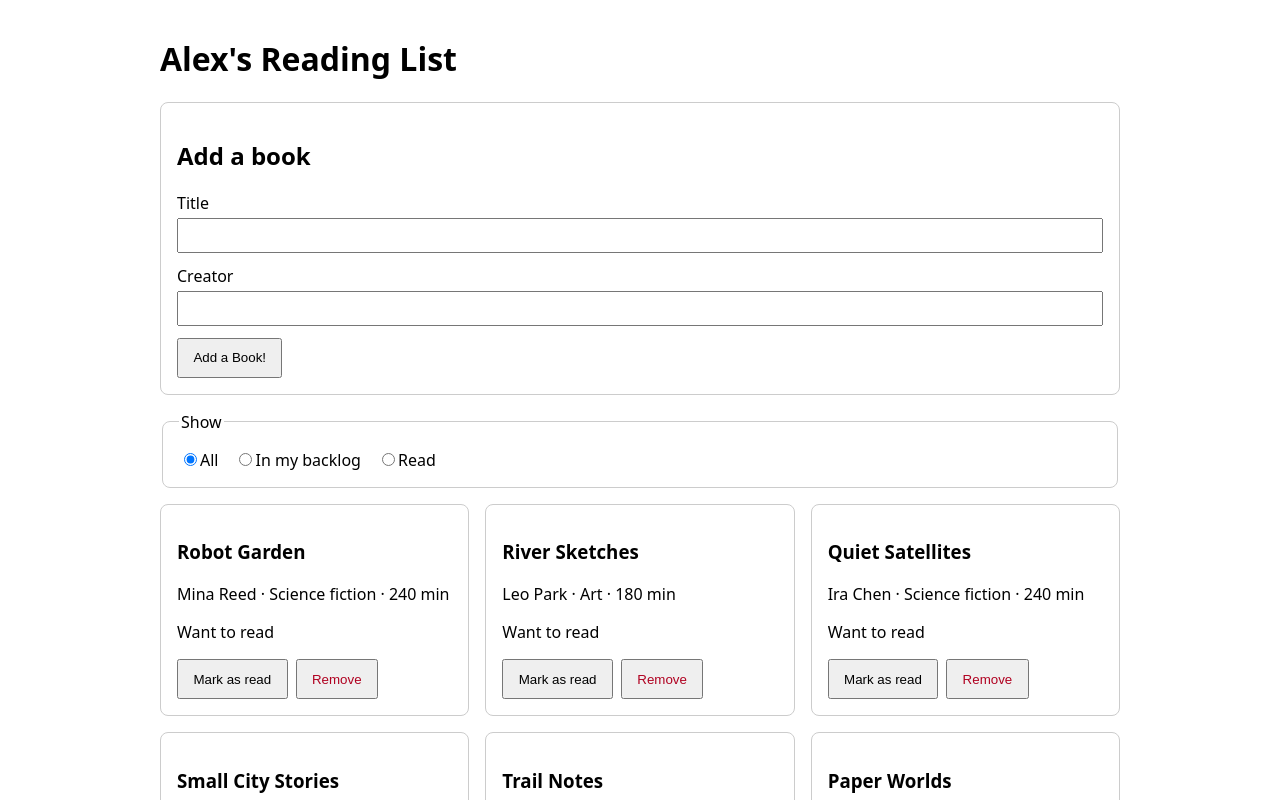
shows errors and adds nothing when the form is empty
The width and height of the screenshot is (1280, 800).
Click the button "Add a Book!". click: click(230, 358)
box: [177,338,282,378]
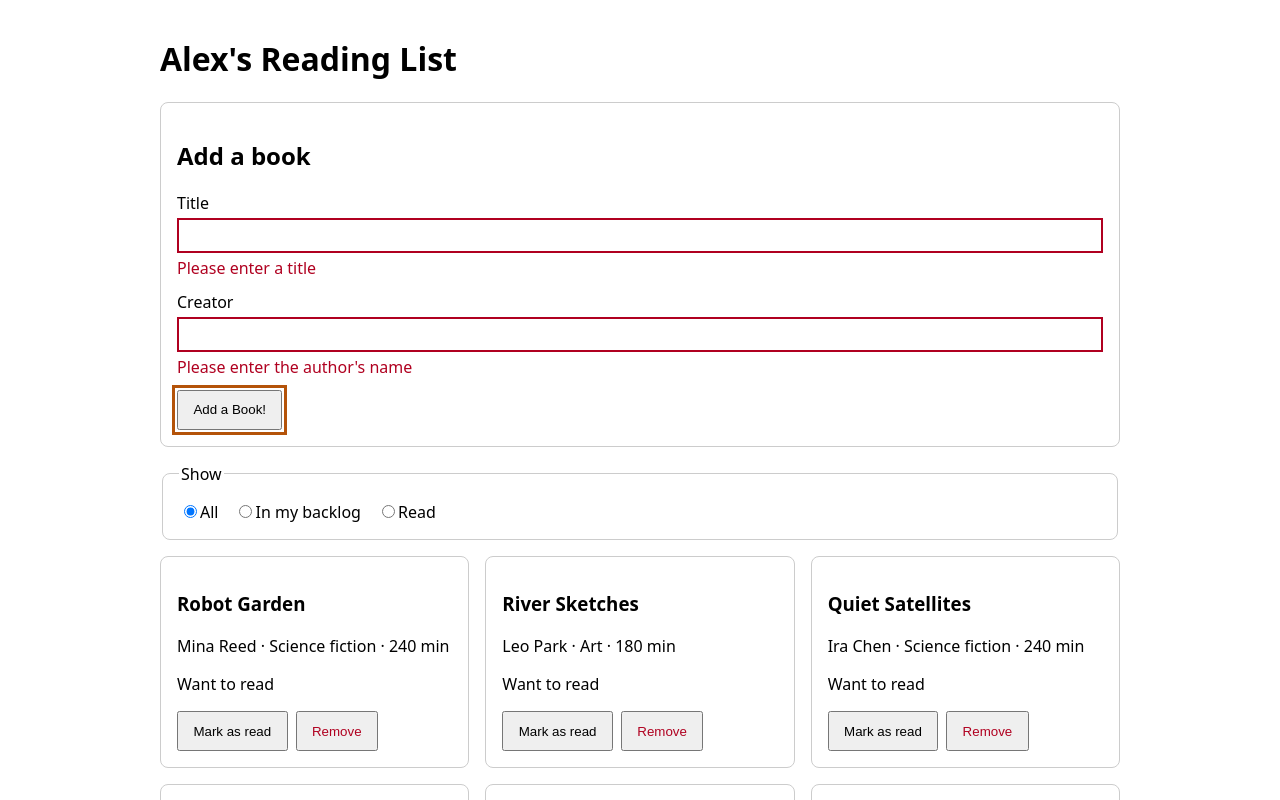
Expected: the text "Please enter a title" is shown, [177,257,316,279]
